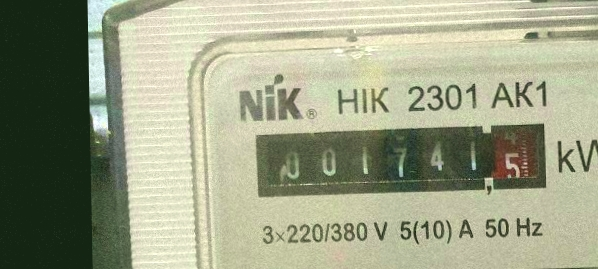0: (319, 143, 338, 178), (283, 147, 302, 180)
1: (354, 141, 372, 177), (464, 137, 480, 173)
4: (426, 137, 447, 173), (502, 128, 519, 146)
5: (502, 148, 521, 179)
7: (391, 143, 408, 178)
screen: (249, 116, 554, 203)
